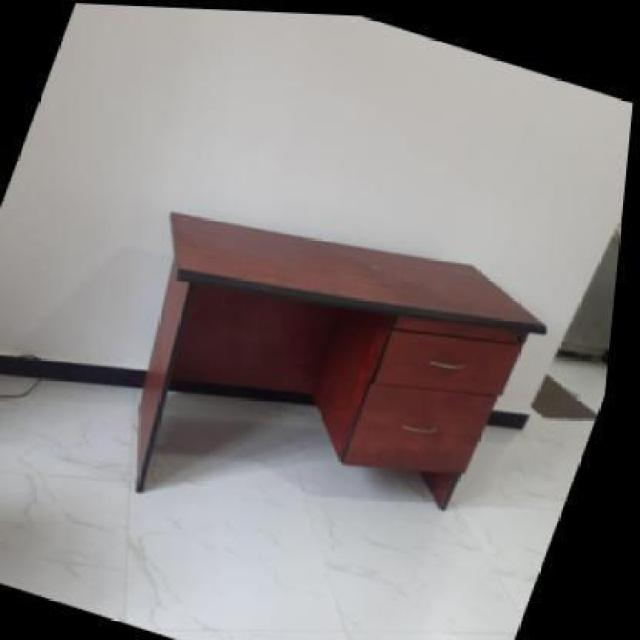tables: (132, 209, 546, 509)
